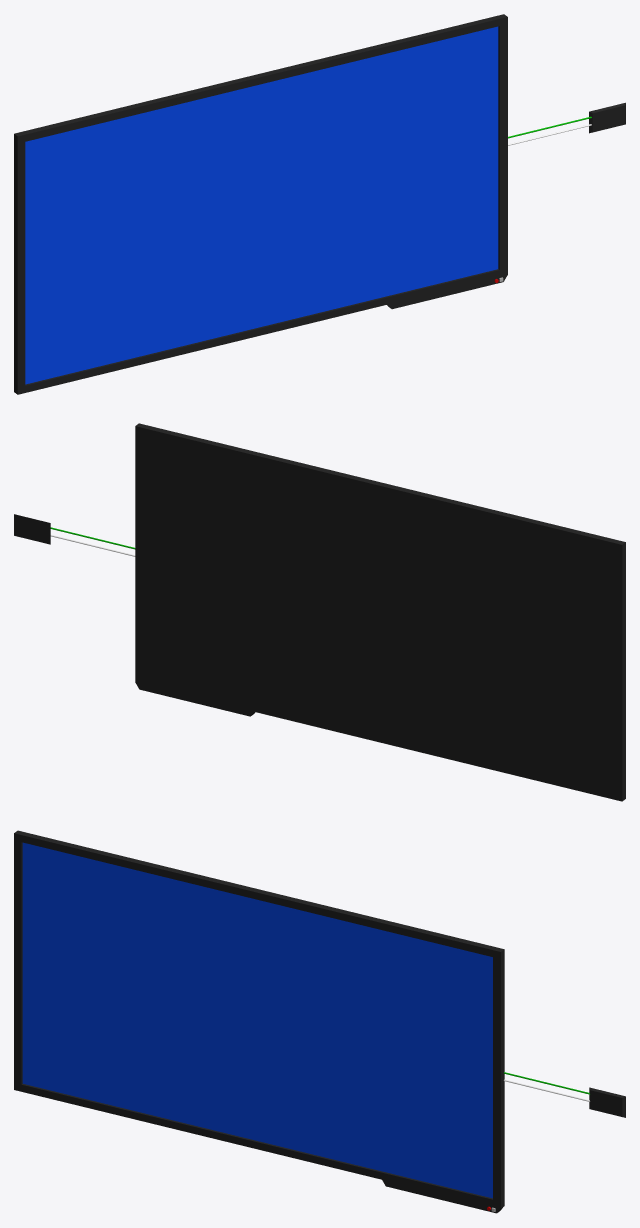
File: big_screen.fbx
The picture shows the model from 3 angles, top to bottom: view 1: azimuth 30°, elevation 25°; view 2: azimuth 150°, elevation 25°; view 3: azimuth 330°, elevation 25°; orthographic projection.
Visible parts, largest first — view 1: screen, control_box; view 2: screen, control_box; view 3: screen, control_box.
Part boxes in pixels (x1,y1,x2,y2): screen: (14, 14, 507, 394); control_box: (589, 102, 625, 133); screen: (135, 423, 625, 801); control_box: (14, 514, 50, 544); screen: (14, 830, 504, 1213); control_box: (589, 1087, 625, 1117).
Bounding box in the file's own units: 1983 × 818 × 26.37.
1 material, 1 textured.
